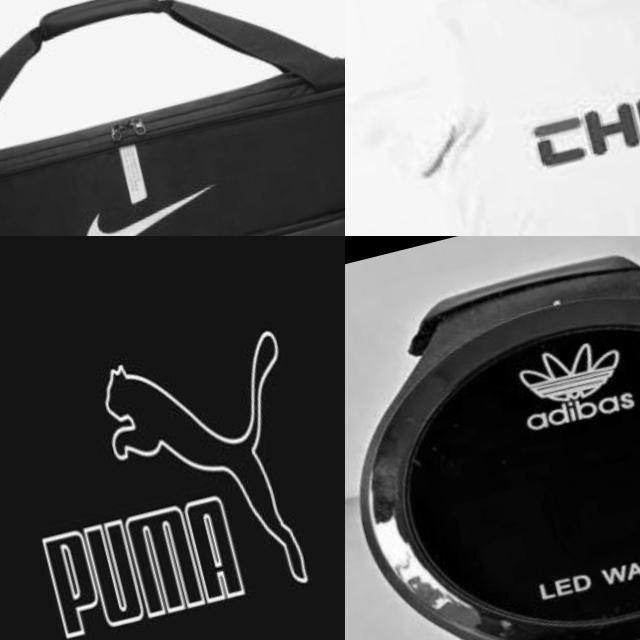ADIDAS_fake: (470, 309, 640, 450)
FILA_fake: (510, 49, 640, 195)
NIKE_original: (60, 167, 240, 236)
PUMA_original: (0, 289, 345, 640)
